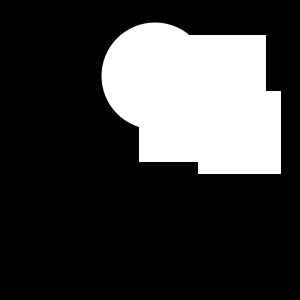circle: (139, 35, 266, 162), (198, 91, 281, 174)
rectangle: (102, 23, 209, 130)
